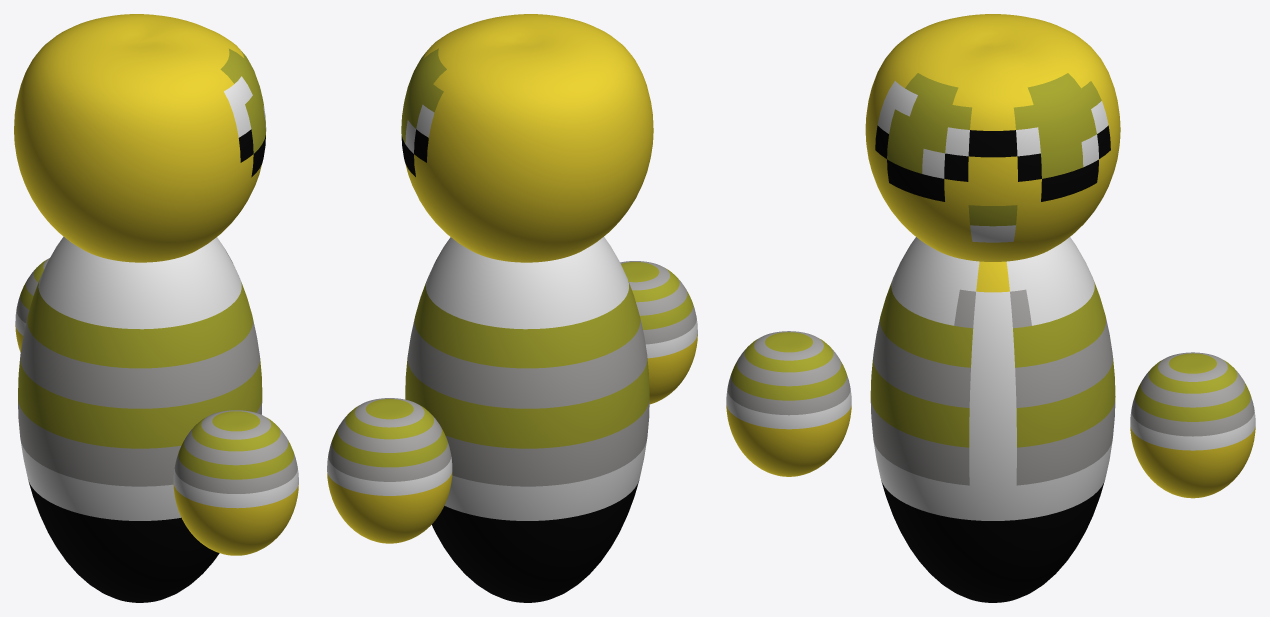
The model's file is strategicyellow.fbx.
The picture shows the model from 3 angles, left to right: view 1: azimuth 30°, elevation 25°; view 2: azimuth 150°, elevation 25°; view 3: azimuth 270°, elevation 25°; orthographic projection.
Visible parts, largest first — view 1: Body, Head, Arm 1, Arm 2; view 2: Body, Head, Arm 2, Arm 1; view 3: Body, Head, Arm 2, Arm 1.
Boxes of the visible parts, x1=… form: Body: x1=18, y1=236, x2=262, y2=602; Head: x1=14, y1=14, x2=266, y2=262; Arm 1: x1=173, y1=410, x2=298, y2=555; Arm 2: x1=15, y1=258, x2=49, y2=352; Body: x1=405, y1=237, x2=649, y2=602; Head: x1=401, y1=14, x2=653, y2=262; Arm 2: x1=327, y1=398, x2=452, y2=543; Arm 1: x1=620, y1=261, x2=697, y2=404; Body: x1=870, y1=237, x2=1115, y2=602; Head: x1=865, y1=14, x2=1120, y2=261; Arm 2: x1=1130, y1=352, x2=1255, y2=498; Arm 1: x1=726, y1=331, x2=851, y2=476.
Bounding box in the file's own units: 203 × 497 × 427.
